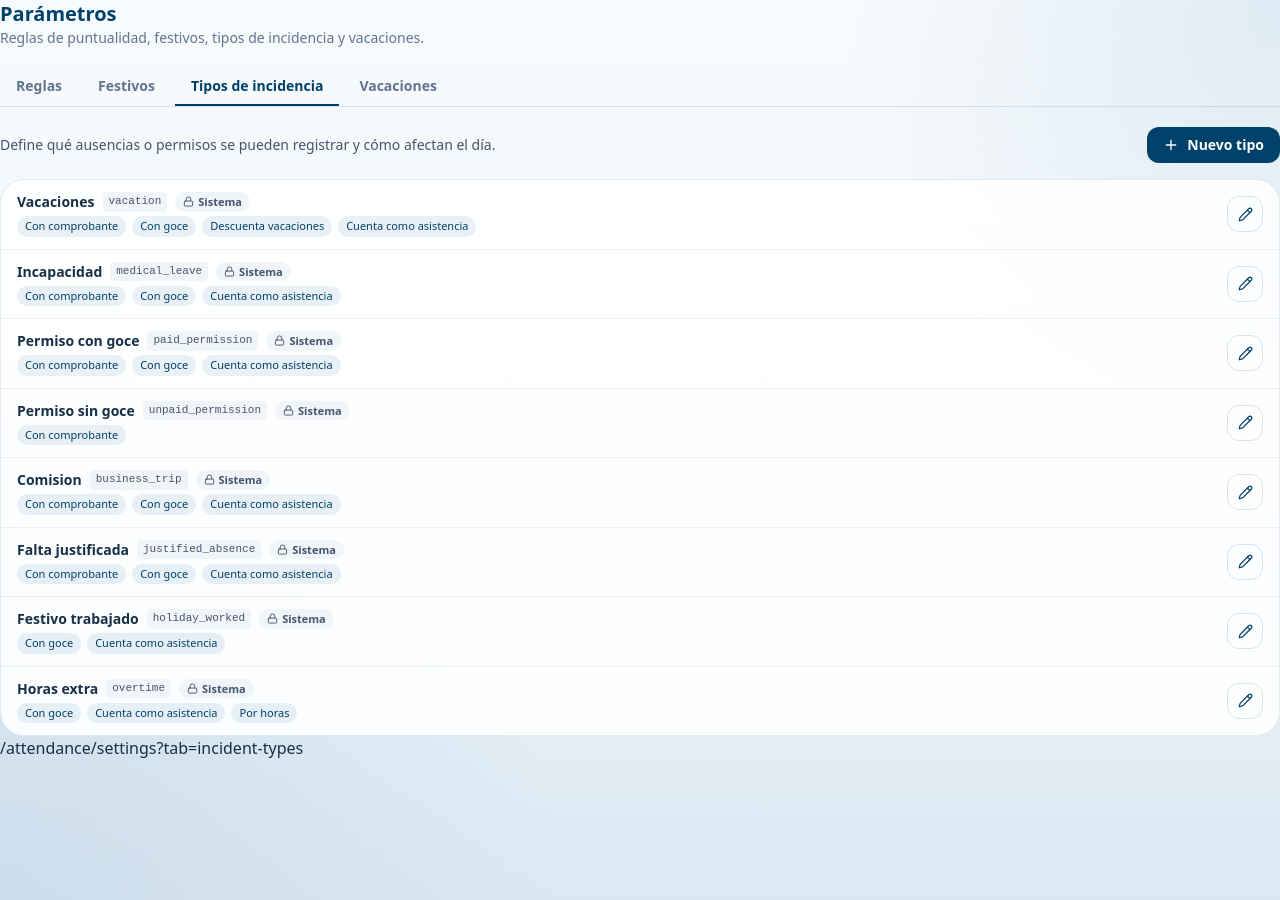
Parametros › Tipos de incidencia › tipos de sistema: clave no editable
This screenshot has width=1280, height=900.
Expected: the text "Sistema" next to "vacation" is shown, [198,194,242,209]
Click the button named "Editar Vacaciones".
click(1245, 214)  # box [1227,196,1263,232]
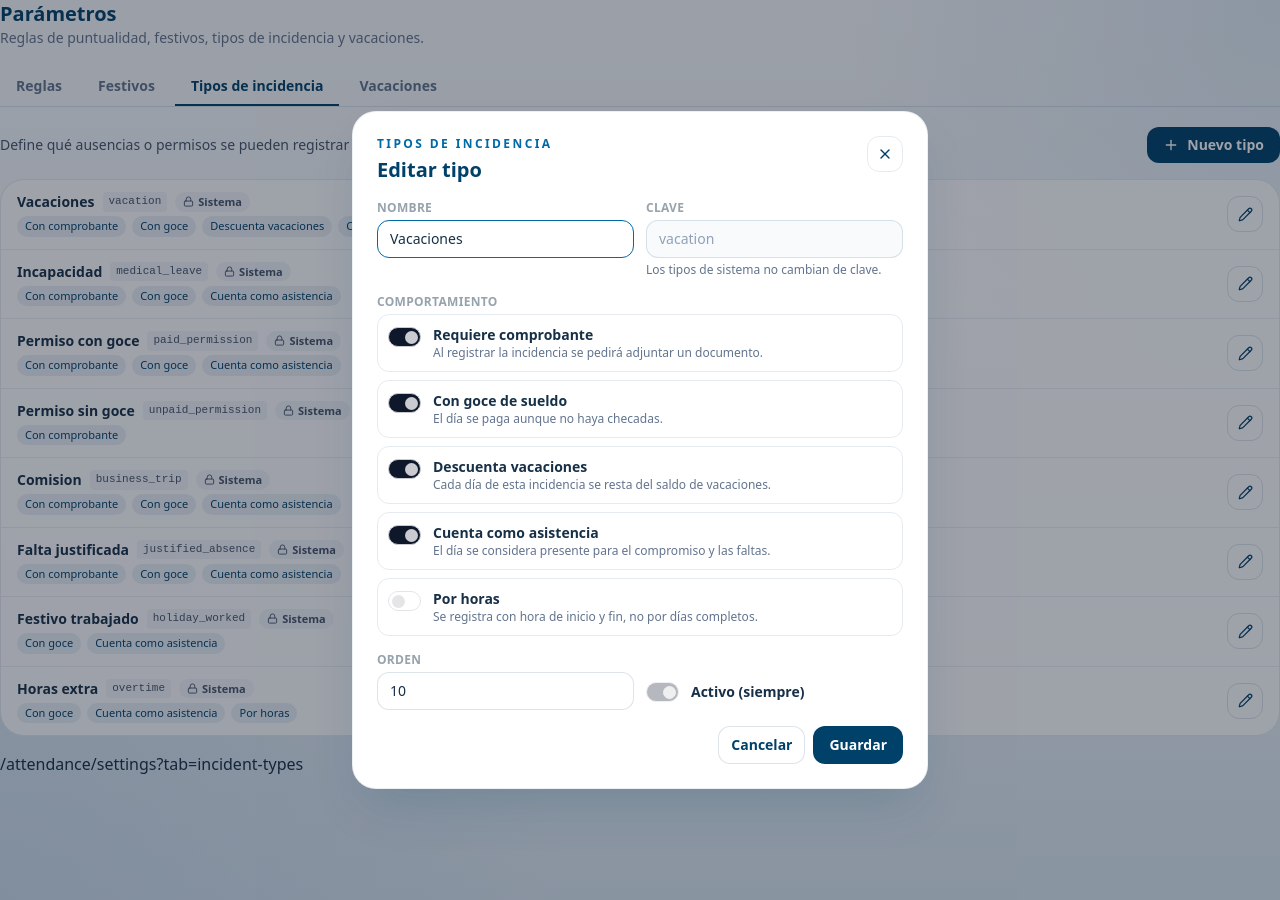
Result: the field labelled "Clave" is disabled at [646,220,903,258]
Result: the text "Los tipos de sistema no cambian de clave." is shown at [646,262,903,278]
Result: the text "Activo (siempre)" is shown at [691,682,804,702]
